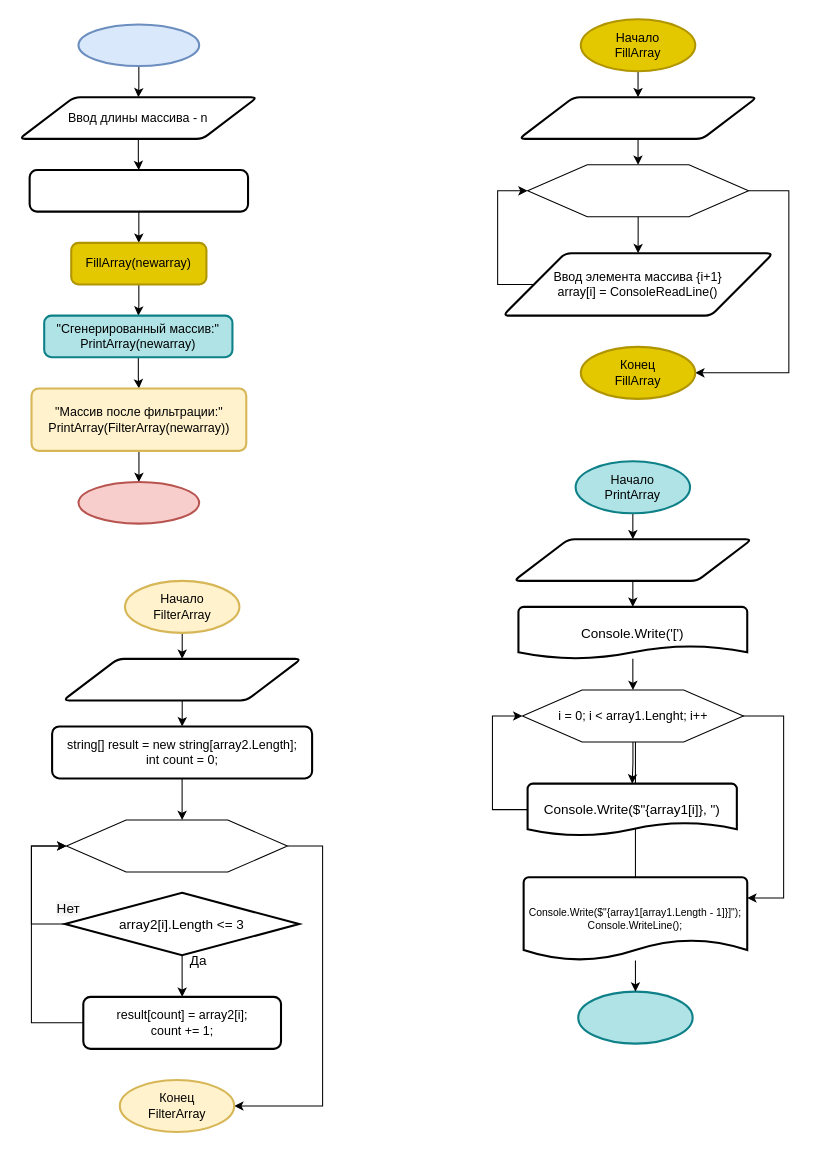
Image size: 815x1150. Some labels were removed from this diagram. Here are the shapes that lost their labels. From the top down, the centre of each, then its label:
At [138,45]: "Начало".
At [637,117]: "string?[] array".
At [138,190]: "string[] newarray = new string[n]".
At [638,190]: "i = 0; i < array.Lenght; i++".
At [138,502]: "Конец".
At [632,559]: "string[] array1".
At [182,679]: "string[] array2".
At [176,845]: "i = 0; i < array2.Lenght; i++".
At [635,1017]: "Конец PrintArray".
